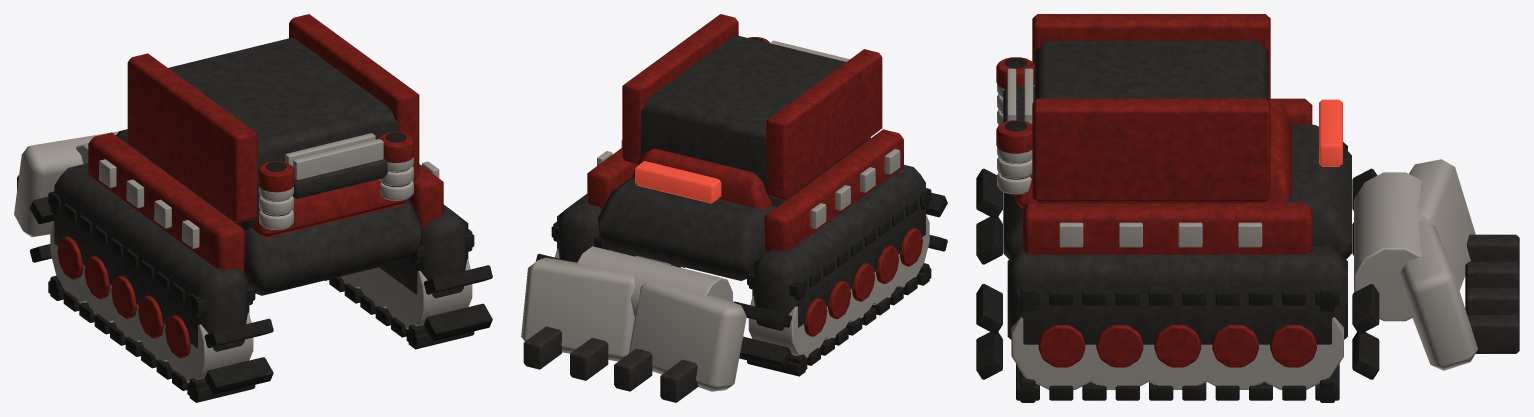
Rendered from kharn_recolteur_blinde.gltf.
3 renders of one model, left to right at view 1: azimuth 30°, elevation 25°; view 2: azimuth 150°, elevation 25°; view 3: azimuth 270°, elevation 25°, orthographic. The views are drawn at different scales.
Visible parts, largest first — view 1: Root.018_Geometry, Track_-0.68_0_Geometry, Track_0.68_0_Geometry, Tool_0_Geometry, Wheel_-0.67628_0_Geometry, Wheel_0.67628_0_Geometry, Wheel_-0.67628_4_Geometry, Wheel_-0.67628_2_Geometry, Wheel_-0.67628_1_Geometry, Wheel_-0.67628_3_Geometry, Wheel_0.67628_1_Geometry; view 2: Root.018_Geometry, Tool_0_Geometry, Track_-0.68_0_Geometry, Tool_Harvest_Geometry, Wheel_-0.67628_4_Geometry, Wheel_-0.67628_0_Geometry, Wheel_-0.67628_2_Geometry, Wheel_-0.67628_1_Geometry, Wheel_-0.67628_3_Geometry, Track_0.68_0_Geometry; view 3: Root.018_Geometry, Tool_0_Geometry, Track_0.68_0_Geometry, Tool_Harvest_Geometry, Wheel_0.67628_0_Geometry, Wheel_0.67628_4_Geometry, Wheel_0.67628_2_Geometry, Wheel_0.67628_1_Geometry, Wheel_0.67628_3_Geometry, Track_-0.68_0_Geometry.
Boxes of the visible parts, box(x1,y1,x2,y2) form: Root.018_Geometry: box(54, 14, 468, 351); Track_-0.68_0_Geometry: box(30, 191, 273, 402); Track_0.68_0_Geometry: box(324, 229, 492, 349); Tool_0_Geometry: box(14, 131, 118, 237); Wheel_-0.67628_0_Geometry: box(161, 312, 253, 382); Wheel_0.67628_0_Geometry: box(382, 259, 472, 329); Wheel_-0.67628_4_Geometry: box(50, 221, 91, 303); Wheel_-0.67628_2_Geometry: box(105, 276, 144, 341); Wheel_-0.67628_1_Geometry: box(134, 295, 171, 361); Wheel_-0.67628_3_Geometry: box(79, 256, 117, 322); Wheel_0.67628_1_Geometry: box(354, 267, 394, 308); Root.018_Geometry: box(557, 14, 925, 330); Tool_0_Geometry: box(521, 257, 746, 402); Track_-0.68_0_Geometry: box(733, 188, 947, 376); Tool_Harvest_Geometry: box(576, 246, 732, 316); Wheel_-0.67628_4_Geometry: box(748, 296, 831, 358); Wheel_-0.67628_0_Geometry: box(893, 214, 929, 287); Wheel_-0.67628_2_Geometry: box(845, 263, 879, 322); Wheel_-0.67628_1_Geometry: box(869, 245, 903, 304); Wheel_-0.67628_3_Geometry: box(823, 280, 855, 339); Track_0.68_0_Geometry: box(536, 221, 684, 267); Root.018_Geometry: box(996, 14, 1351, 344); Tool_0_Geometry: box(1400, 159, 1519, 370); Track_0.68_0_Geometry: box(976, 284, 1379, 402); Tool_Harvest_Geometry: box(1354, 172, 1426, 321); Wheel_0.67628_0_Geometry: box(1011, 317, 1105, 389); Wheel_0.67628_4_Geometry: box(1250, 317, 1343, 389); Wheel_0.67628_2_Geometry: box(1134, 325, 1221, 389); Wheel_0.67628_1_Geometry: box(1076, 325, 1163, 389); Wheel_0.67628_3_Geometry: box(1192, 325, 1279, 389); Track_-0.68_0_Geometry: box(976, 168, 1377, 264).
Size of the model in its own units: 1.73 by 1.48 by 2.7.
Materials: 5 (3 with a texture image).
